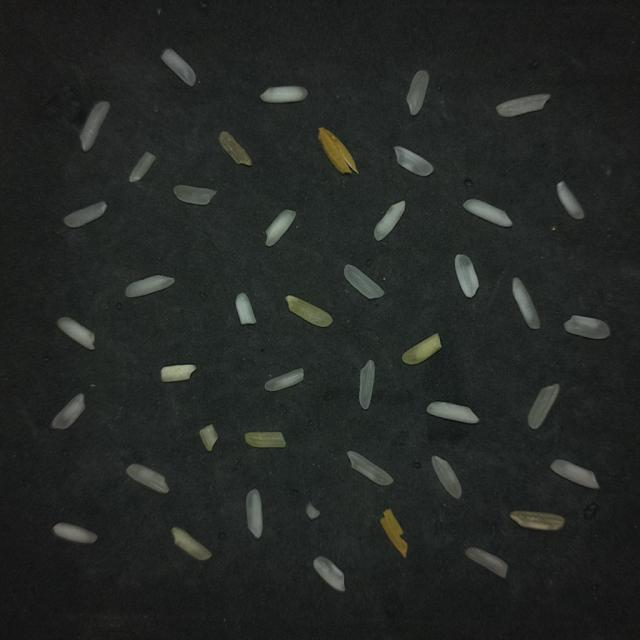broken: (162, 49, 196, 86), (127, 464, 169, 493), (52, 394, 85, 429), (394, 147, 433, 176), (314, 557, 344, 591), (174, 185, 216, 205), (129, 152, 156, 183), (265, 369, 303, 391), (306, 502, 319, 519)
chalky: (463, 199, 512, 227), (374, 201, 405, 241), (57, 317, 94, 349), (125, 275, 174, 298), (265, 210, 296, 246), (427, 402, 478, 423), (557, 182, 584, 219), (455, 255, 478, 298), (53, 522, 97, 543), (260, 86, 307, 103), (235, 292, 256, 326), (161, 365, 196, 382)
discolored: (285, 295, 333, 327), (172, 527, 211, 560), (402, 334, 441, 364), (219, 132, 252, 166), (510, 511, 564, 530), (245, 432, 286, 448), (199, 424, 218, 451)
foreign: (380, 509, 407, 558)
paddy: (319, 128, 358, 173)
whole: (347, 451, 393, 485), (512, 277, 540, 329), (80, 102, 109, 151), (528, 384, 559, 429), (551, 460, 599, 489), (344, 265, 384, 299), (465, 547, 508, 578), (496, 94, 549, 117), (432, 456, 461, 498), (64, 202, 106, 228), (564, 315, 609, 339), (407, 70, 429, 115), (246, 489, 263, 538), (359, 360, 374, 409)
